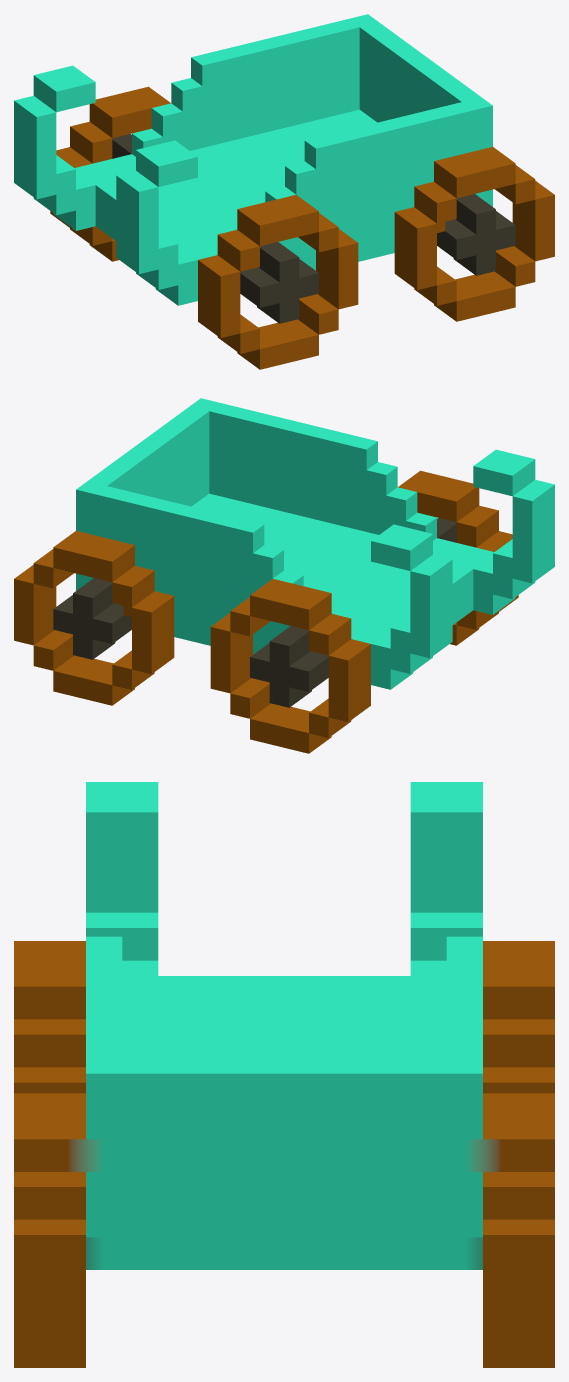
Rendered from Vehicle_18.fbx.
3 views of the same model, one above another, from view 1: azimuth 30°, elevation 25°; view 2: azimuth 150°, elevation 25°; view 3: azimuth 270°, elevation 25° (orthographic). The views are drawn at different scales.
Visible parts, largest first — view 1: Vehicle_18; view 2: Vehicle_18; view 3: Vehicle_18.
Boxes of the visible parts, box(x1,y1,x2,y2) form: Vehicle_18: box(14, 14, 554, 369); Vehicle_18: box(14, 398, 554, 753); Vehicle_18: box(14, 782, 554, 1367).
Size of the model in its own units: 20 by 10 by 15.
1 material, 1 textured.
